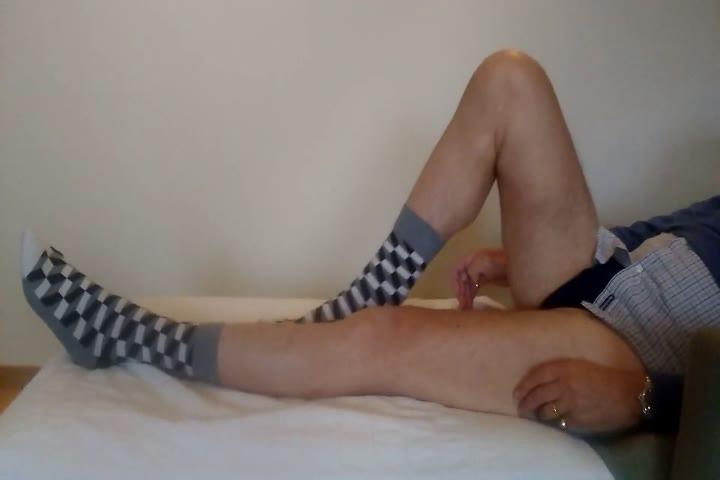lowerbody: (16, 40, 671, 439)
